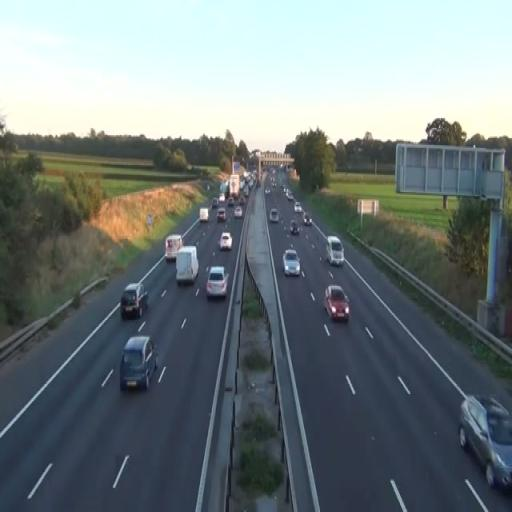Car: (458, 394, 512, 493), (120, 335, 158, 392), (120, 282, 148, 320), (324, 284, 350, 323), (205, 266, 228, 300), (326, 236, 344, 267), (283, 250, 300, 276), (218, 231, 233, 251), (216, 208, 226, 222), (234, 207, 243, 218)
Truck: (175, 246, 199, 284), (228, 174, 240, 200)
